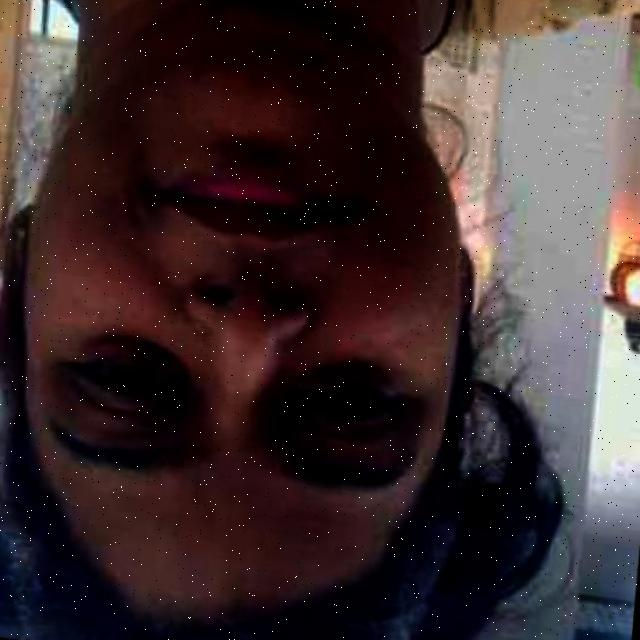puffy_eyes: (89, 336, 201, 393), (283, 364, 402, 399)
